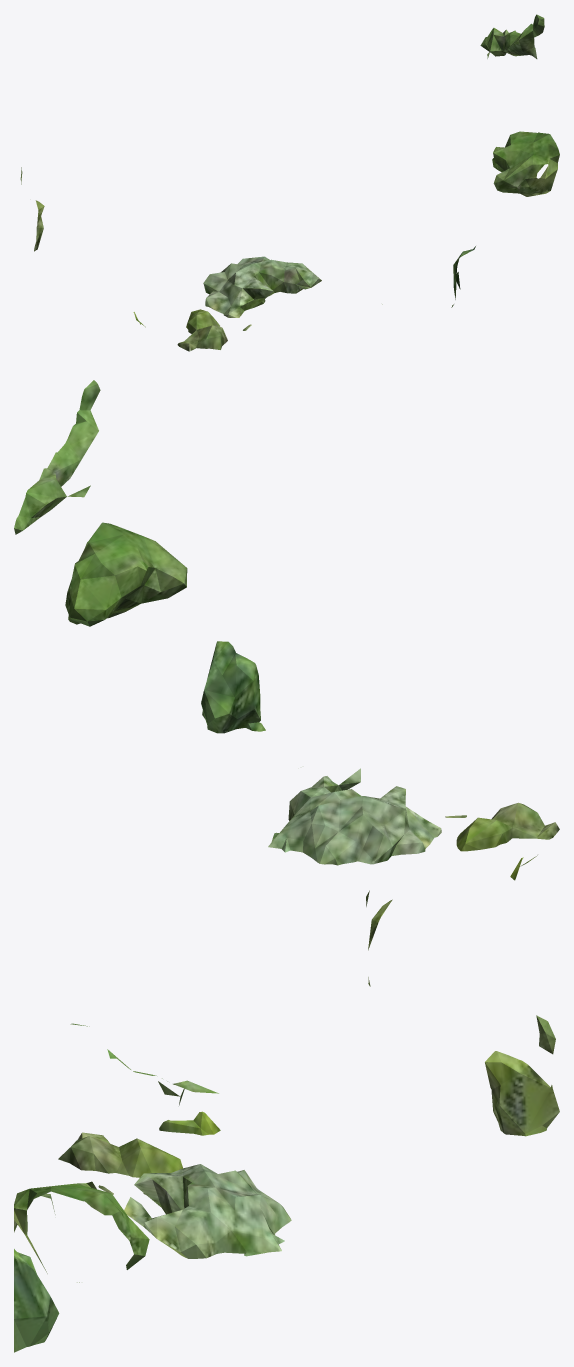
The picture shows the model from 3 angles, top to bottom: view 1: azimuth 30°, elevation 25°; view 2: azimuth 150°, elevation 25°; view 3: azimuth 270°, elevation 25°; orthographic projection. The views are drawn at different scales.
Size of the model in its own units: 26.11 by 17 by 22.46.
Materials: 1 (1 with a texture image).
